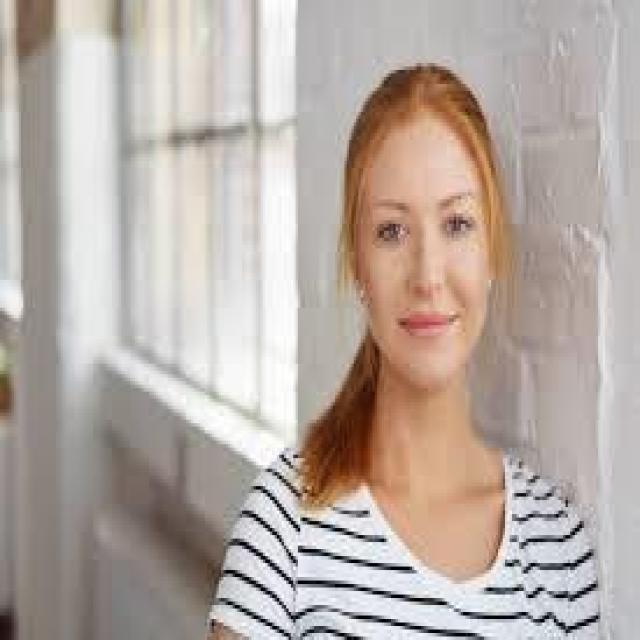person: (230, 45, 605, 633)
